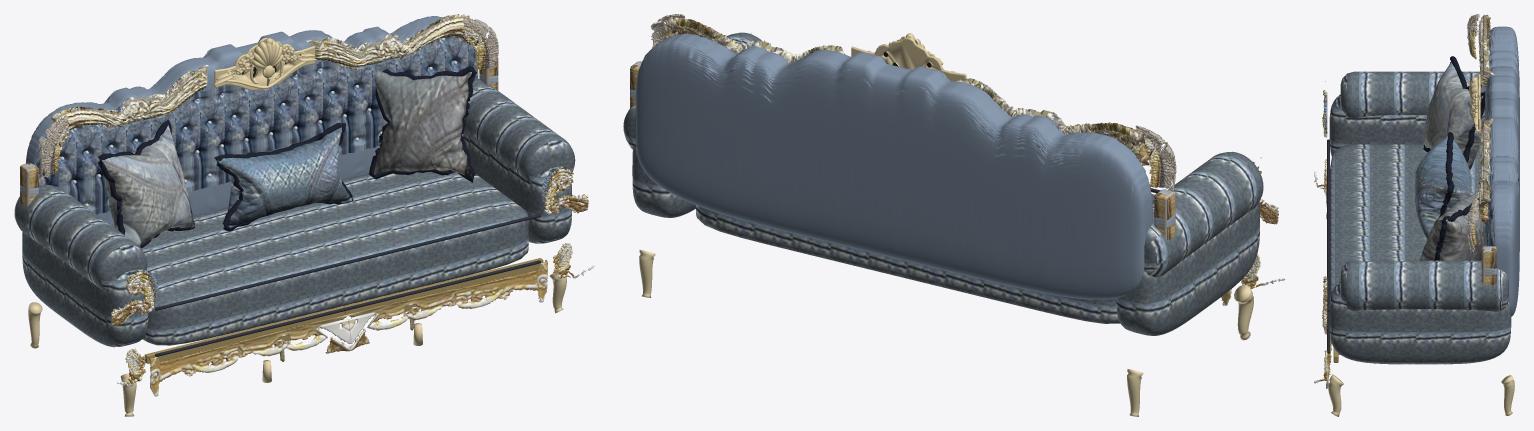
Rendered from aventure-royal-sofa-set--sofa3.glb.
3 renders of one model, left to right at view 1: azimuth 30°, elevation 25°; view 2: azimuth 150°, elevation 25°; view 3: azimuth 270°, elevation 25°, orthographic. The views are drawn at different scales.
Visible parts, largest first — view 1: seat, back, pilR, pilC, armroll-1, armside-1, pilL, armroll1, apronR, apronL, armside1, railL (+15 smaller); view 2: back, armside-1, seat, armroll-1, railR, armside1, railL, crest_plate, cornerR, post-1, armscroll-1, legf-1 (+1 smaller); view 3: seat, armside1, armroll1, back, armroll-1, pilC, pilL, armside-1, pilR, railL, railR, post1 (+10 smaller).
Part boxes in pixels (x1=…): seat: x1=141, y1=171, x2=528, y2=345; back: x1=25, y1=16, x2=478, y2=227; pilR: x1=372, y1=71, x2=472, y2=177; pilC: x1=217, y1=127, x2=351, y2=227; armroll-1: x1=14, y1=185, x2=147, y2=290; armside-1: x1=22, y1=232, x2=148, y2=347; pilL: x1=100, y1=125, x2=194, y2=246; armroll1: x1=464, y1=79, x2=575, y2=181; apronR: x1=148, y1=314, x2=350, y2=396; apronL: x1=348, y1=260, x2=547, y2=350; armside1: x1=463, y1=132, x2=572, y2=243; railL: x1=306, y1=14, x2=470, y2=70; back: x1=636, y1=33, x2=1152, y2=299; armside-1: x1=1116, y1=201, x2=1259, y2=335; seat: x1=696, y1=194, x2=1154, y2=323; armroll-1: x1=1144, y1=151, x2=1263, y2=277; railR: x1=956, y1=78, x2=1150, y2=165; armside1: x1=632, y1=147, x2=695, y2=217; railL: x1=663, y1=17, x2=844, y2=62; crest_plate: x1=851, y1=37, x2=966, y2=81; cornerR: x1=1135, y1=125, x2=1176, y2=191; post-1: x1=1154, y1=189, x2=1175, y2=239; armscroll-1: x1=1241, y1=157, x2=1285, y2=289; legf-1: x1=1234, y1=284, x2=1253, y2=340; seat: x1=1330, y1=144, x2=1480, y2=299; armside1: x1=1329, y1=281, x2=1511, y2=364; armroll1: x1=1340, y1=260, x2=1508, y2=311; back: x1=1485, y1=26, x2=1519, y2=316; armroll-1: x1=1340, y1=71, x2=1485, y2=118; pilC: x1=1415, y1=136, x2=1471, y2=239; pilL: x1=1423, y1=61, x2=1484, y2=169; armside-1: x1=1329, y1=94, x2=1480, y2=156; pilR: x1=1420, y1=193, x2=1485, y2=260; railL: x1=1478, y1=118, x2=1493, y2=223; railR: x1=1478, y1=14, x2=1493, y2=88; post1: x1=1481, y1=246, x2=1496, y2=284.
Size of the model in its own units: 2.28 by 1.24 by 0.9412.
Materials: 21 (15 with a texture image).
